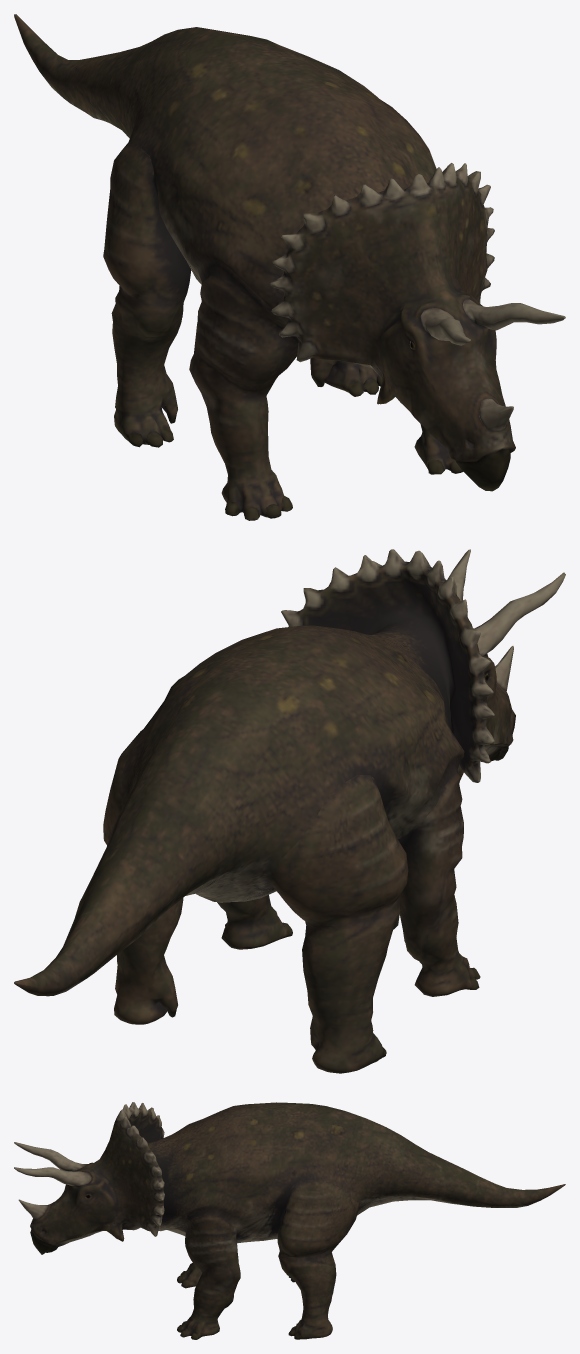
The model's file is triceratops-dinosaur-875270.glb.
The picture shows the model from 3 angles, top to bottom: view 1: azimuth 30°, elevation 25°; view 2: azimuth 150°, elevation 25°; view 3: azimuth 270°, elevation 25°; orthographic projection. The views are drawn at different scales.
Visible parts, largest first — view 1: PropMesh; view 2: PropMesh; view 3: PropMesh.
Boxes of the visible parts, x1,y1,x2,y2 form: PropMesh: (14, 14, 565, 520); PropMesh: (14, 549, 565, 1073); PropMesh: (14, 1102, 565, 1339).
Size of the model in its own units: 0.5931 by 0.7155 by 1.8.
1 material, 1 textured.
